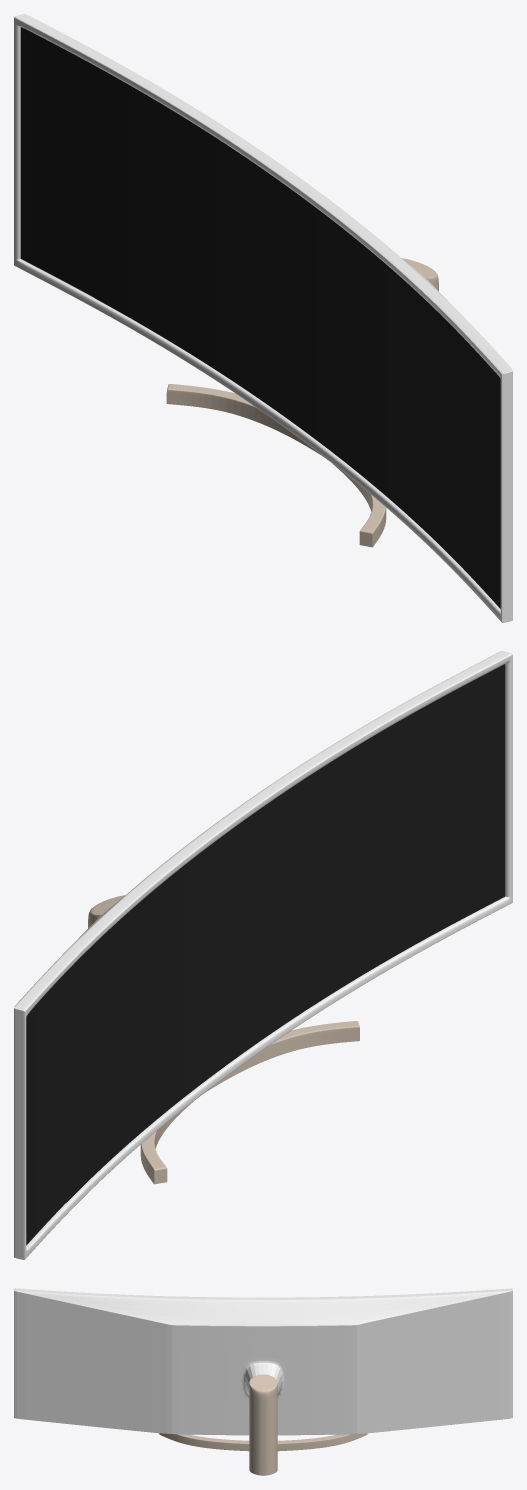
The model's file is 32_9 monitor 49in.glb.
3 renders of one model, top to bottom at view 1: azimuth 30°, elevation 25°; view 2: azimuth 150°, elevation 25°; view 3: azimuth 270°, elevation 25°, orthographic. The views are drawn at different scales.
Parts seen in each view (by area): view 1: Plane, Cylinder; view 2: Plane, Cylinder; view 3: Plane, Cylinder.
Boxes of the visible parts, x1=… form: Plane: x1=14, y1=14, x2=512, y2=622; Cylinder: x1=166, y1=258, x2=438, y2=547; Plane: x1=14, y1=651, x2=512, y2=1259; Cylinder: x1=88, y1=895, x2=359, y2=1184; Plane: x1=14, y1=1288, x2=512, y2=1435; Cylinder: x1=159, y1=1374, x2=367, y2=1475.
Size of the model in its own units: 9.94 by 14.97 by 47.2.
